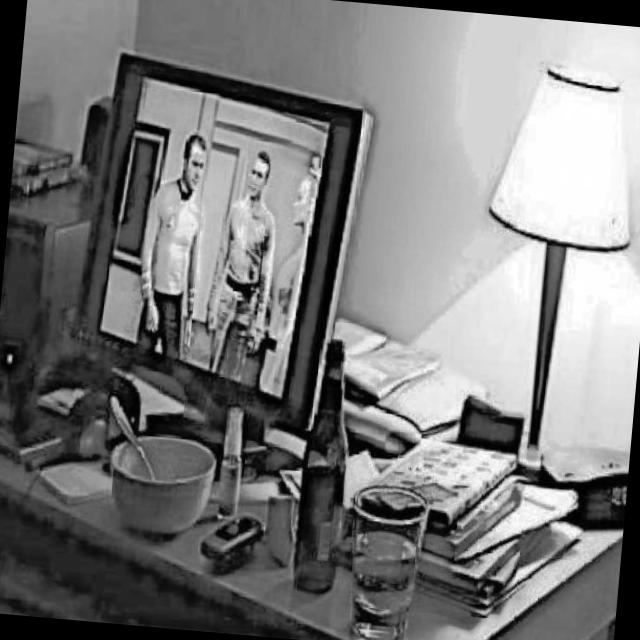Person: (198, 140, 284, 384), (132, 128, 212, 356)
